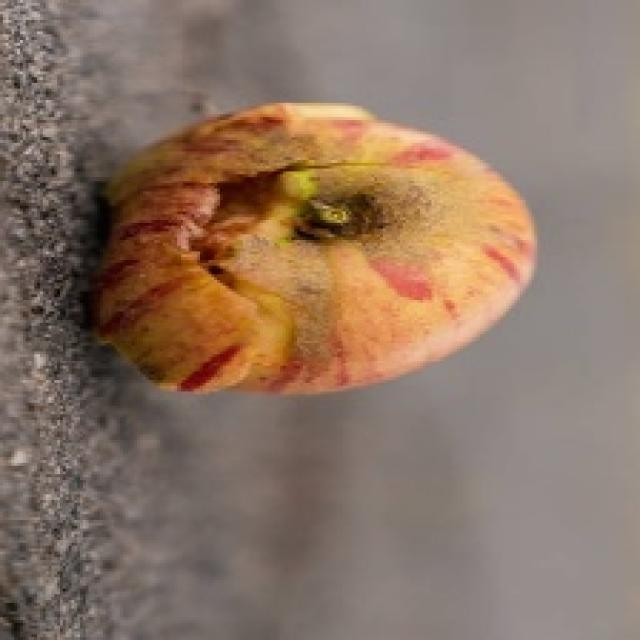rotten_apple: (109, 106, 535, 388)
